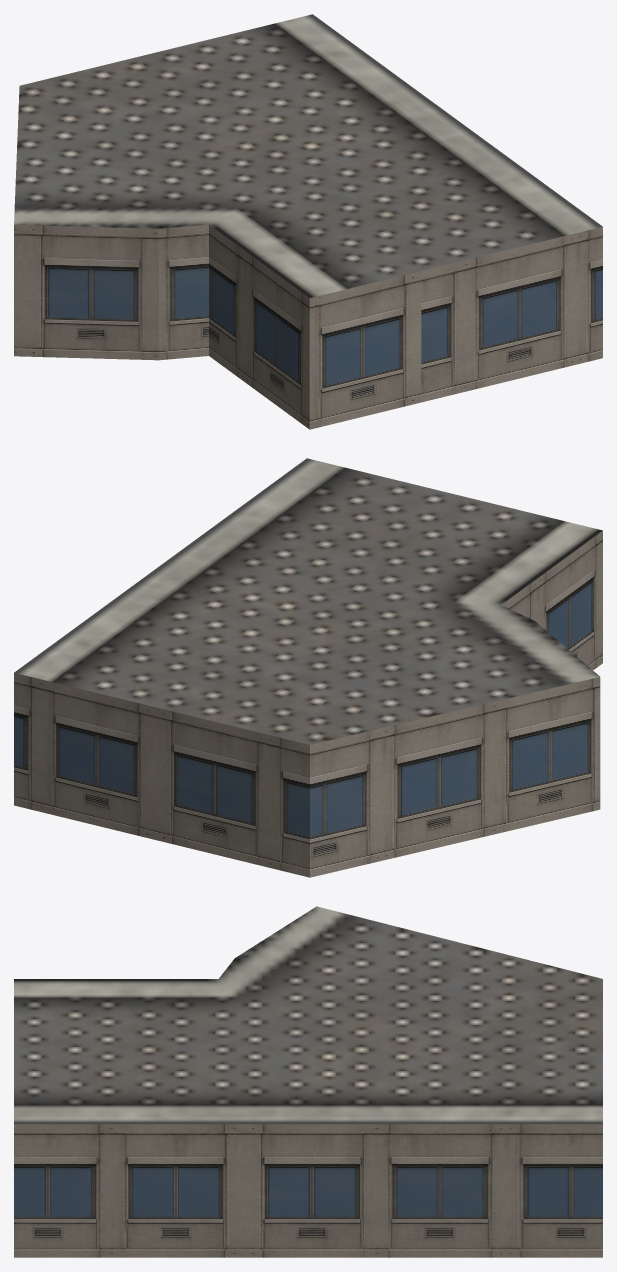
Rendered from building_light_a_41.glb.
The picture shows the model from 3 angles, top to bottom: view 1: azimuth 30°, elevation 25°; view 2: azimuth 150°, elevation 25°; view 3: azimuth 270°, elevation 25°; orthographic projection.
Parts seen in each view (by area): view 1: buildings/saxarba/building_light/building_light_a_41; view 2: buildings/saxarba/building_light/building_light_a_41; view 3: buildings/saxarba/building_light/building_light_a_41.
Boxes of the visible parts, box(x1,y1,x2,y2) form: buildings/saxarba/building_light/building_light_a_41: box(14, 14, 602, 429); buildings/saxarba/building_light/building_light_a_41: box(14, 458, 602, 877); buildings/saxarba/building_light/building_light_a_41: box(14, 906, 602, 1257).
Size of the model in its own units: 63 by 18 by 72.
